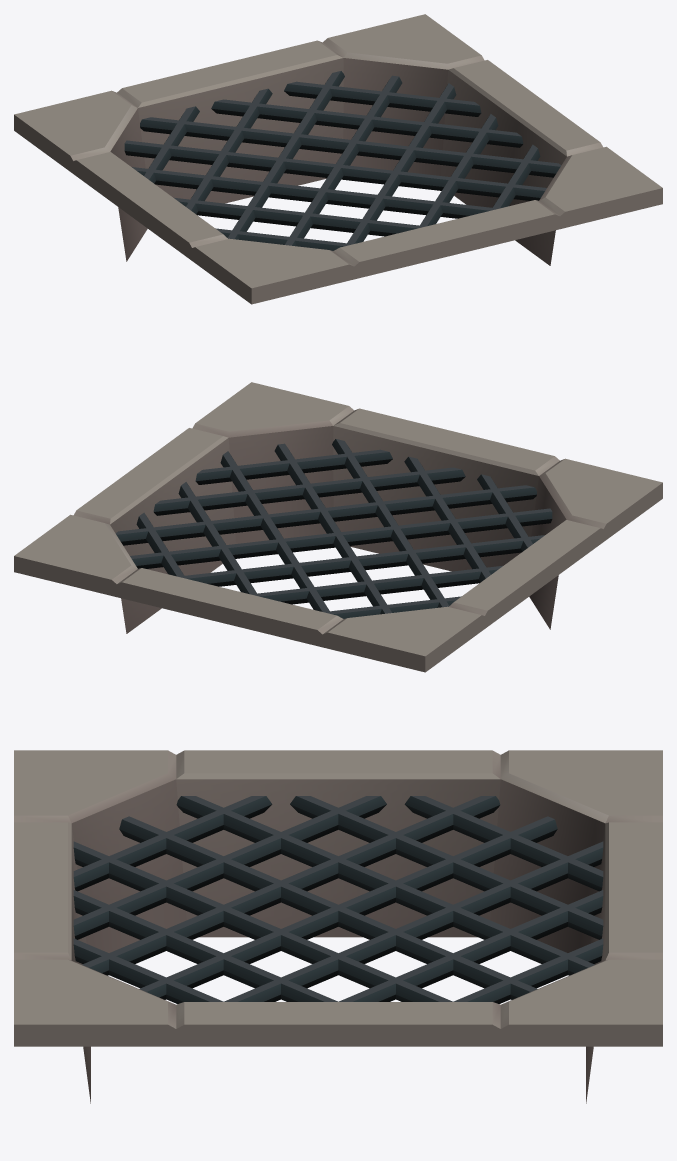
Rendered from floor_tile_big_grate_open.gltf.
3 renders of one model, top to bottom at view 1: azimuth 30°, elevation 25°; view 2: azimuth 150°, elevation 25°; view 3: azimuth 270°, elevation 25°, orthographic. The views are drawn at different scales.
Parts seen in each view (by area): view 1: floor_tile_big_grate_open; view 2: floor_tile_big_grate_open; view 3: floor_tile_big_grate_open.
Part boxes in pixels (x1,y1,x2,y2): floor_tile_big_grate_open: (14,14,662,304); floor_tile_big_grate_open: (14,382,662,672); floor_tile_big_grate_open: (14,750,662,1103).
Size of the model in its own units: 4 by 1.05 by 4.
1 material, 1 textured.
